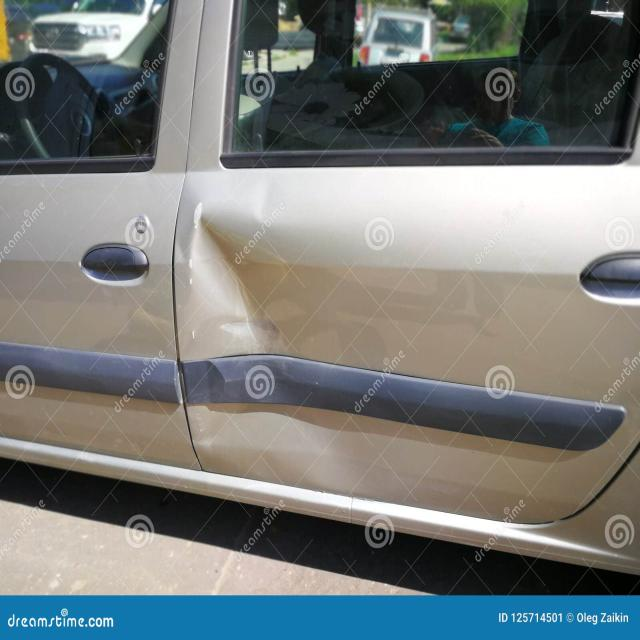dent: (154, 176, 352, 493)
scratch: (221, 317, 285, 354), (192, 201, 204, 229), (191, 330, 196, 341), (188, 258, 193, 269), (189, 277, 194, 285)
